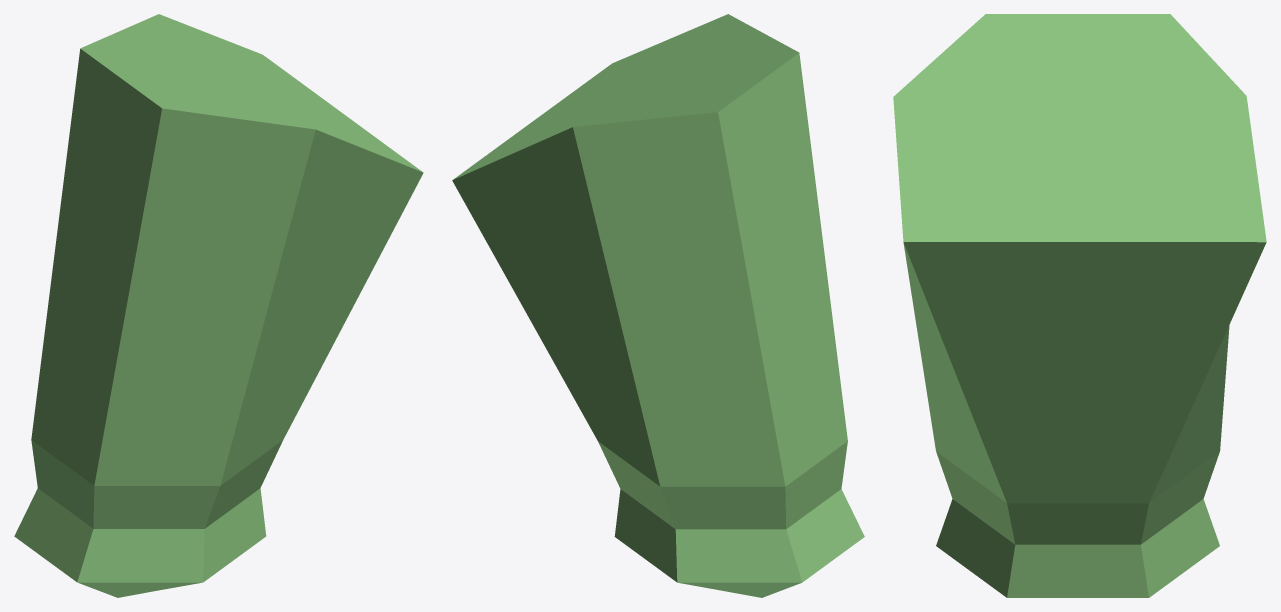
File: RightLegTop.fbx
The picture shows the model from 3 angles, left to right: view 1: azimuth 30°, elevation 25°; view 2: azimuth 150°, elevation 25°; view 3: azimuth 270°, elevation 25°; orthographic projection. The views are drawn at different scales.
Parts seen in each view (by area): view 1: RightLegTop; view 2: RightLegTop; view 3: RightLegTop.
Part boxes in pixels (<box>): RightLegTop: <box>14,14,423,597</box>; RightLegTop: <box>452,14,864,597</box>; RightLegTop: <box>893,14,1266,597</box>.
Bounding box in the file's own units: 30.75 × 49.84 × 29.34.
